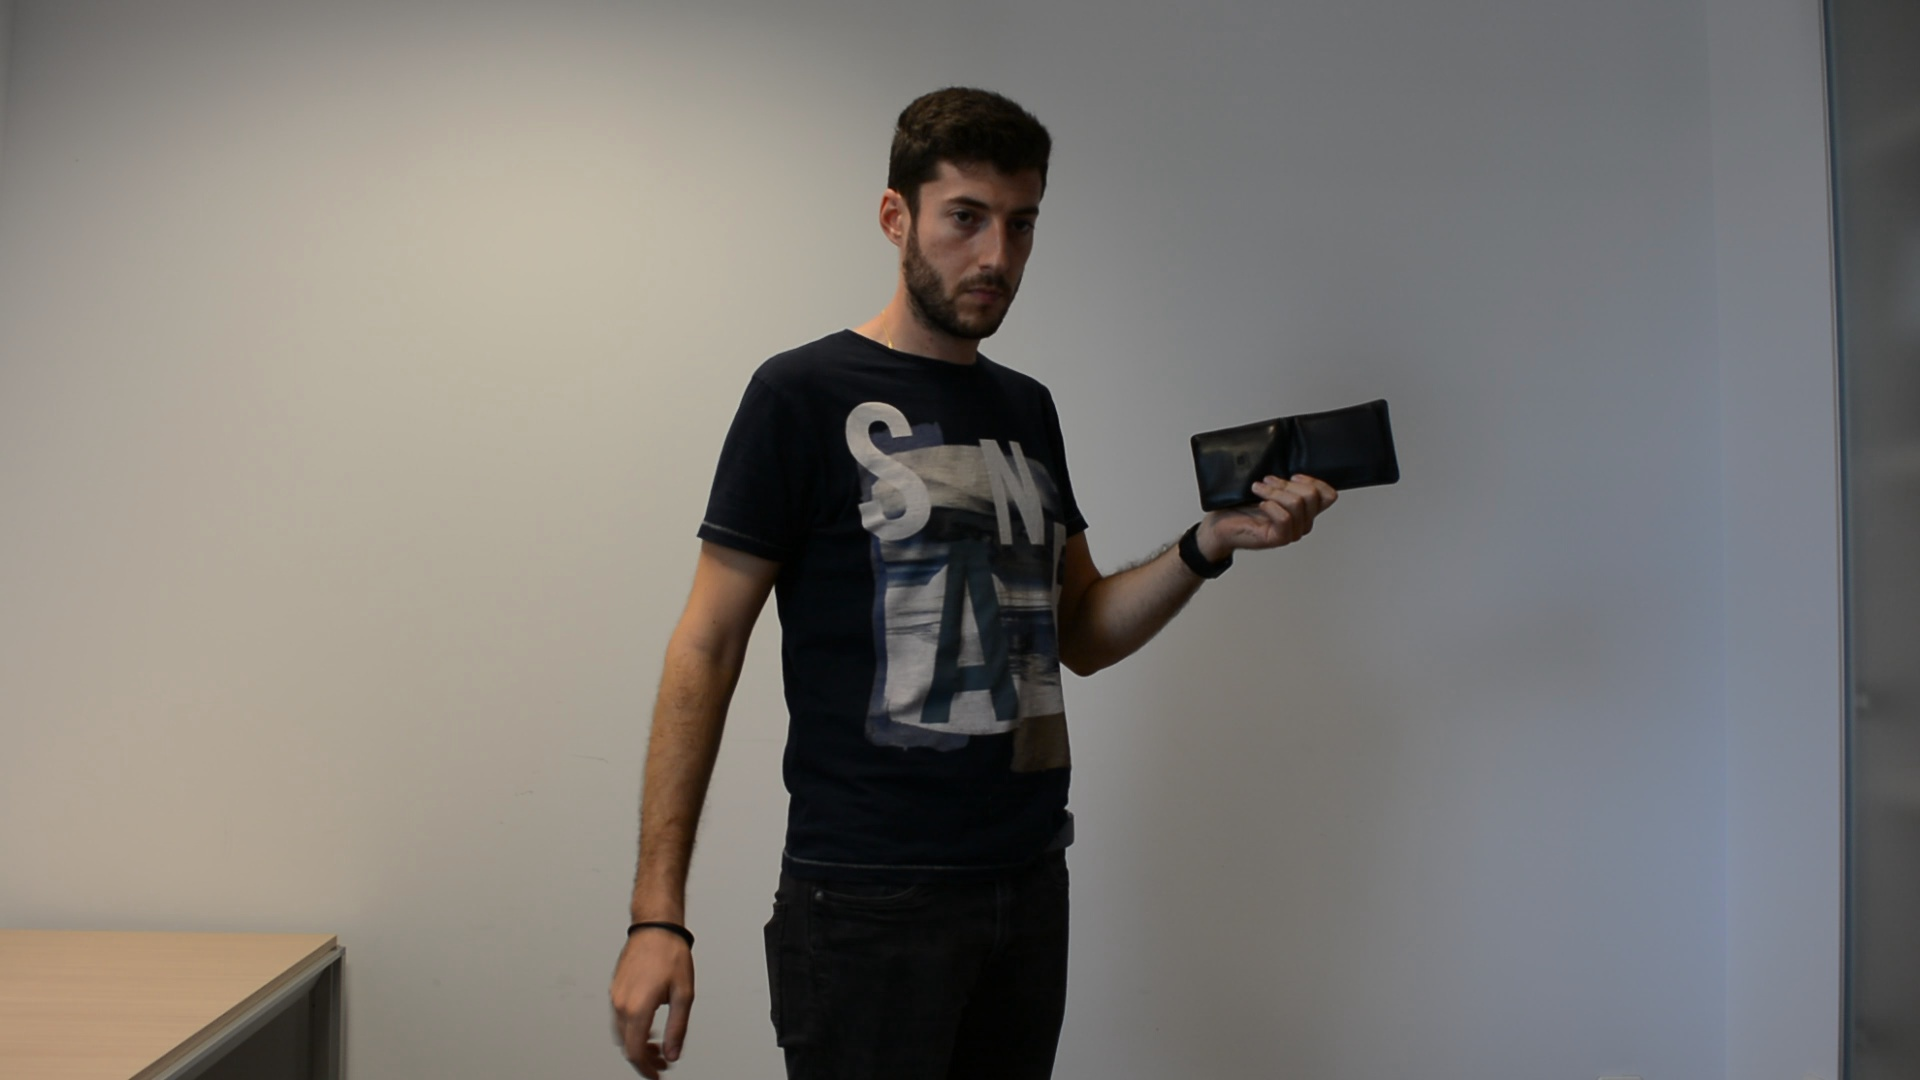monedero: (1187, 394, 1402, 514)
